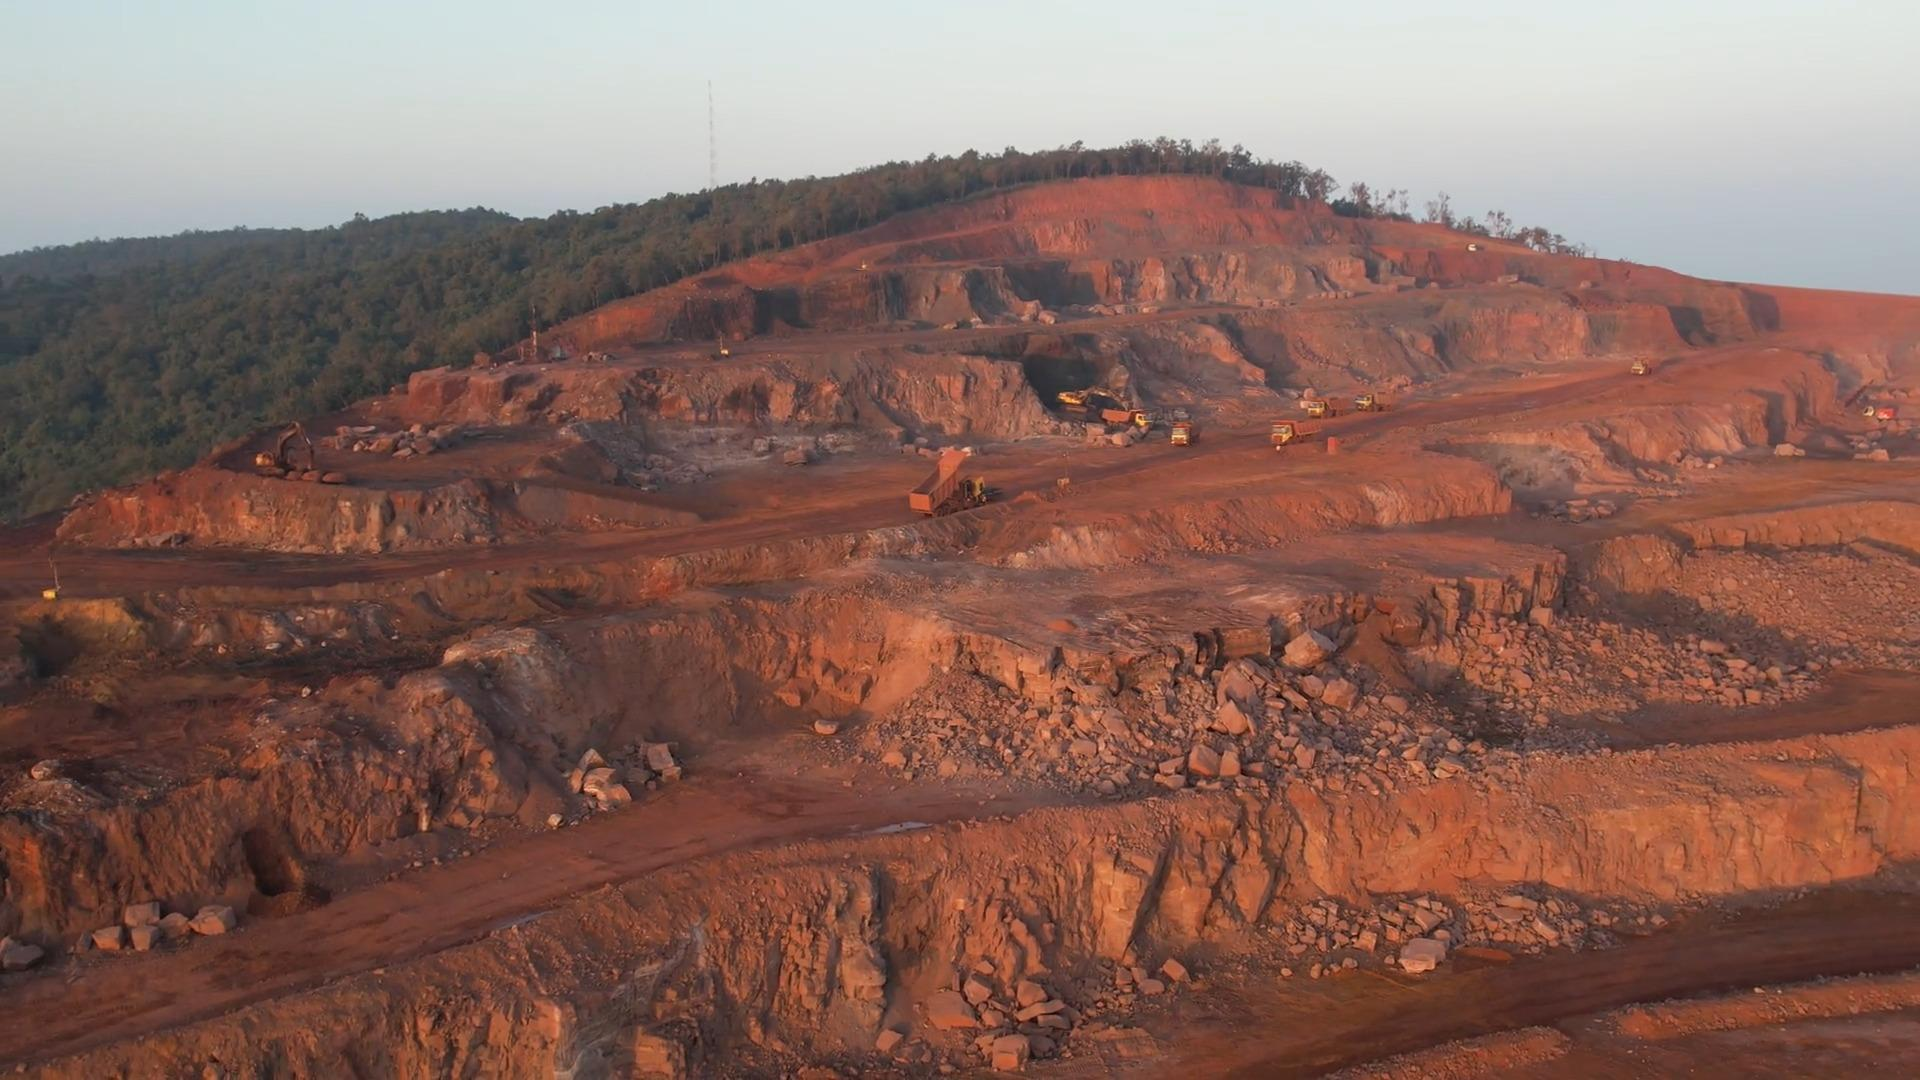excavator: (256, 418, 320, 480), (1058, 388, 1097, 417)
